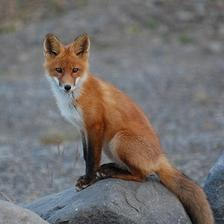fox: (41, 29, 217, 224)
